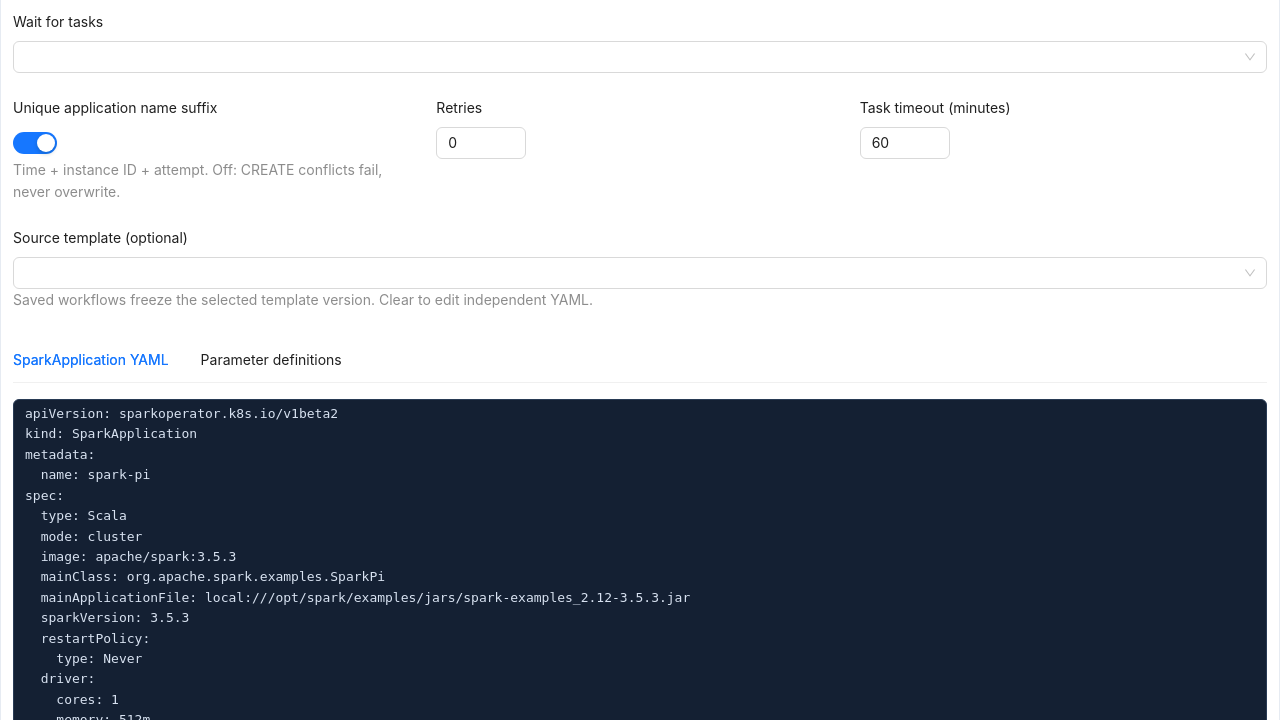
it: workflow parameter definitions › uses parameter defaults and preserves effective legacy values without a YAML values tab
(page scrolled)
Click the tab "Parameter definitions" at (271, 360), box [201, 349, 342, 371]
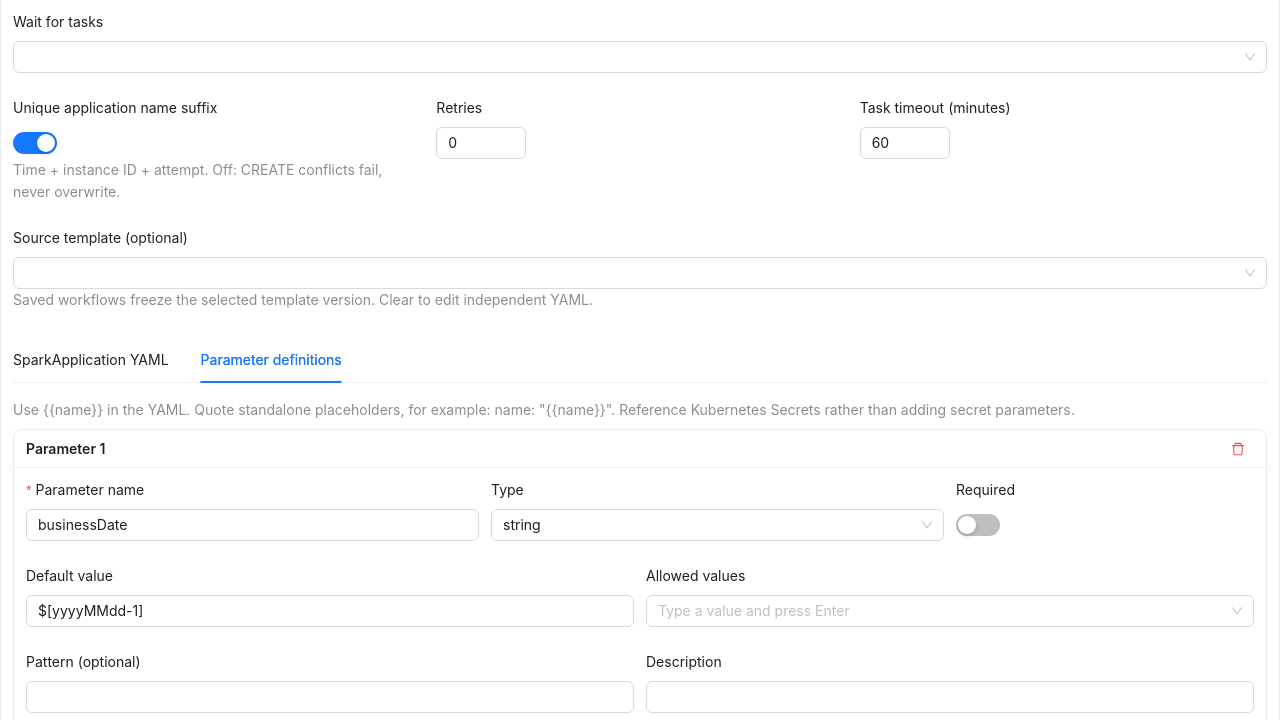
Now the field showing "$[yyyyMMdd-1]" below "Default value" is shown, box [26, 595, 634, 627]
